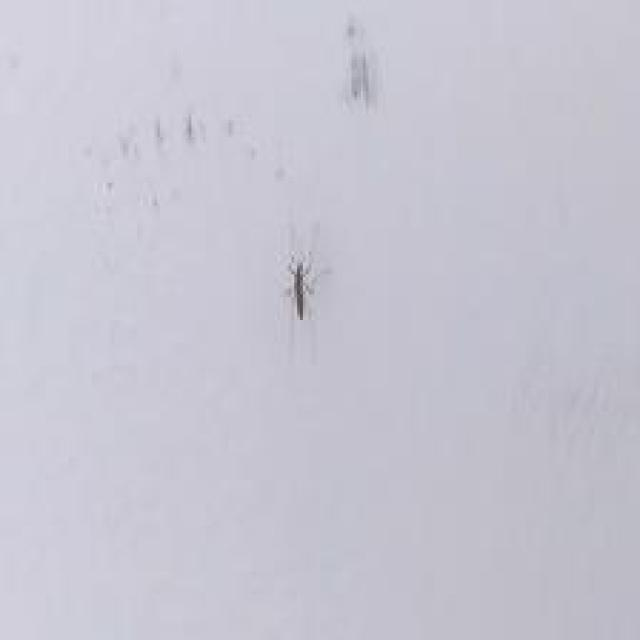Aedes albopictus: (286, 251, 317, 320)
